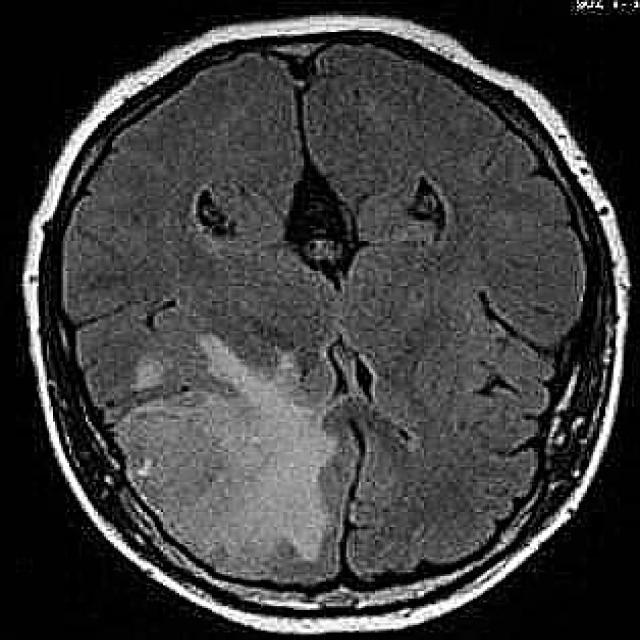Tumor-Cell: (102, 345, 370, 588)
